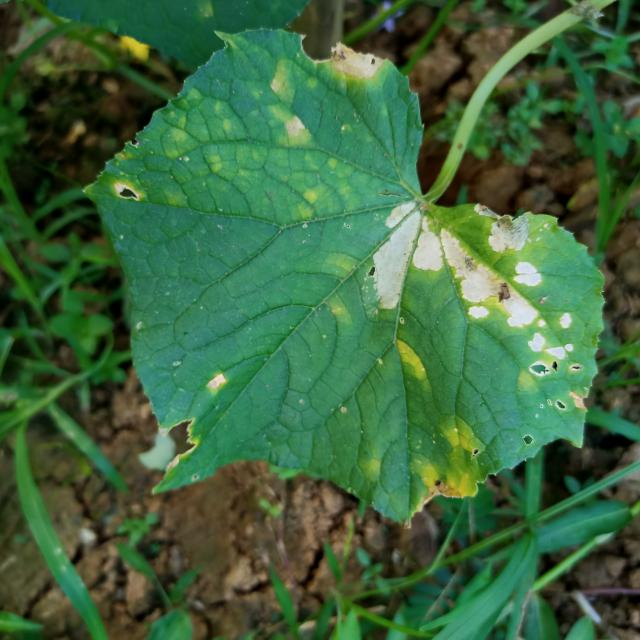disease_cucumber: (367, 191, 601, 403), (402, 415, 492, 506), (249, 64, 320, 169), (386, 335, 440, 389)
